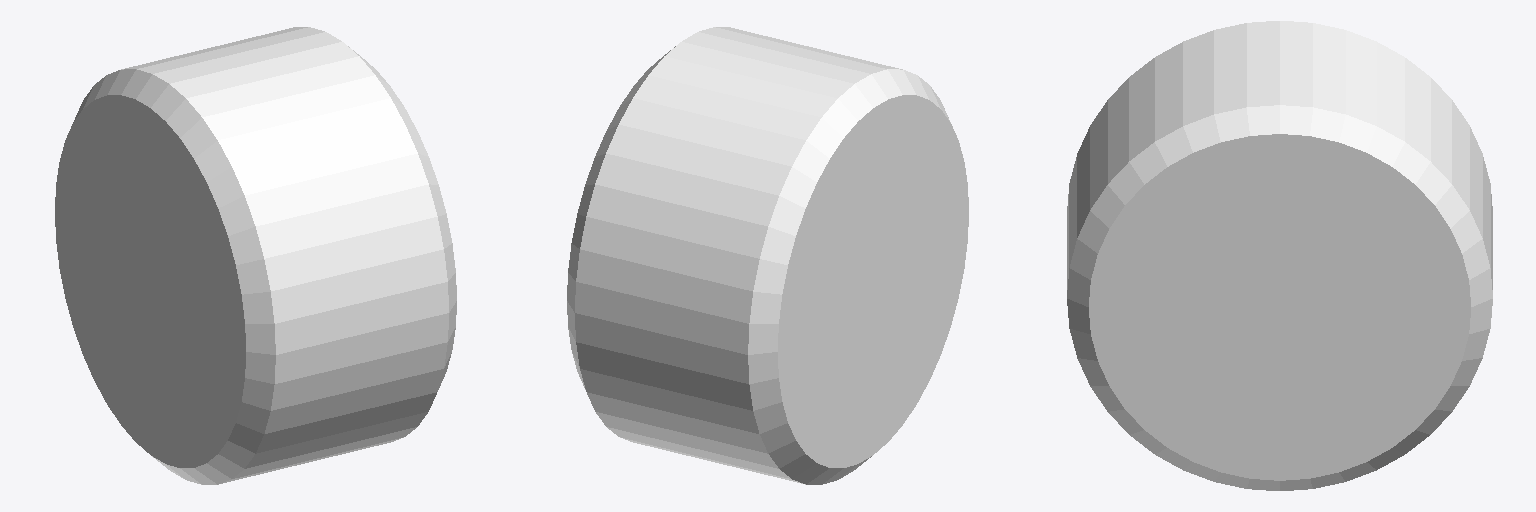
Rendered from wheel.obj.
3 renders of one model, left to right at view 1: azimuth 30°, elevation 25°; view 2: azimuth 150°, elevation 25°; view 3: azimuth 270°, elevation 25°, orthographic.
Bounding box in the file's own units: 3.37 × 5.9 × 5.9.